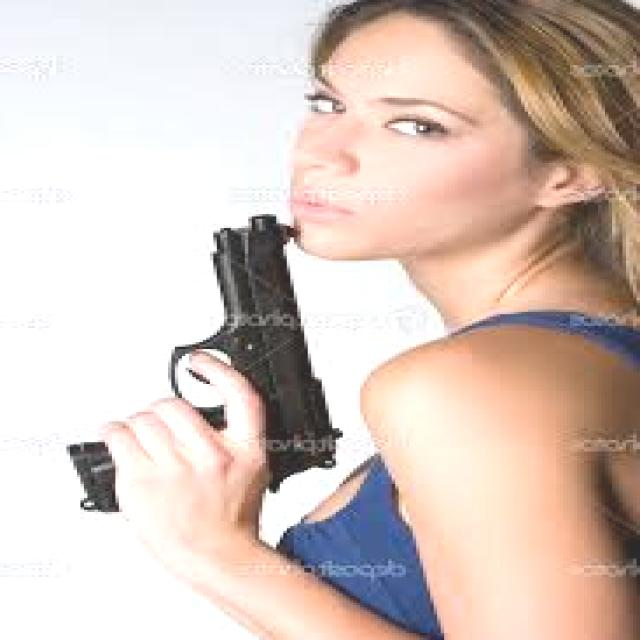pistol: (77, 207, 339, 519)
